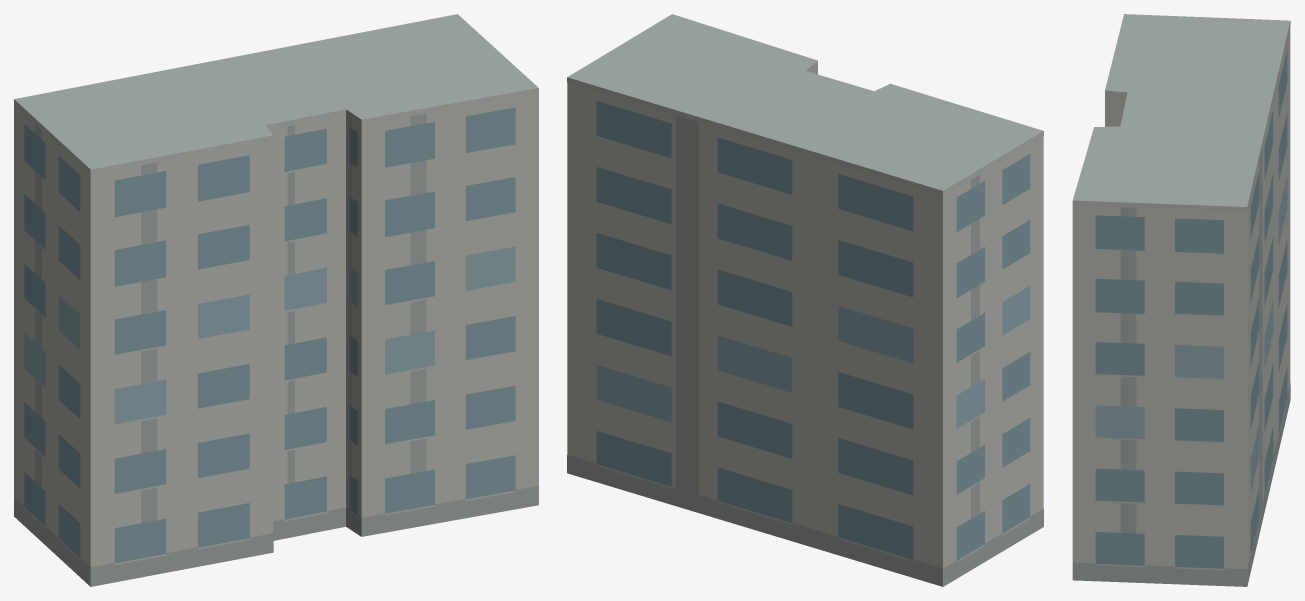
File: survey-upis-32923763.glb
3 views of the same model, side by side, from view 1: azimuth 30°, elevation 25°; view 2: azimuth 150°, elevation 25°; view 3: azimuth 270°, elevation 25° (orthographic). The views are drawn at different scales.
Visible parts, largest first — view 1: survey-upis-32923763.tmp; view 2: survey-upis-32923763.tmp; view 3: survey-upis-32923763.tmp.
Part boxes in pixels (bbox=[...]): survey-upis-32923763.tmp: bbox=[14, 14, 538, 586]; survey-upis-32923763.tmp: bbox=[567, 14, 1043, 586]; survey-upis-32923763.tmp: bbox=[1072, 14, 1290, 586].
Size of the model in its own units: 19.96 by 18.3 by 9.52.
